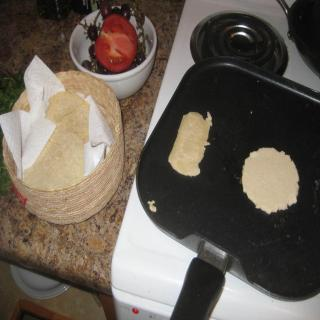tomato: (95, 13, 138, 74)
